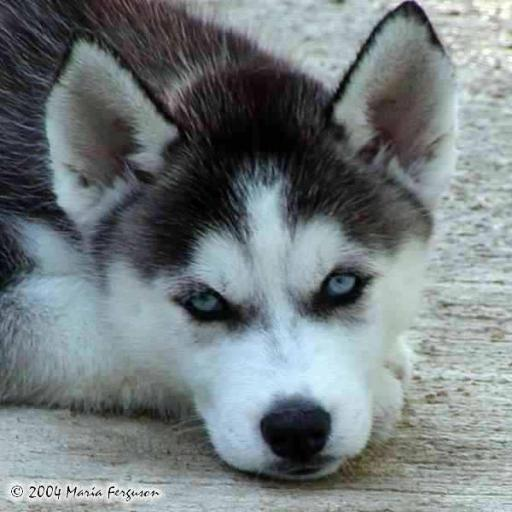dog_face: (60, 16, 458, 465)
